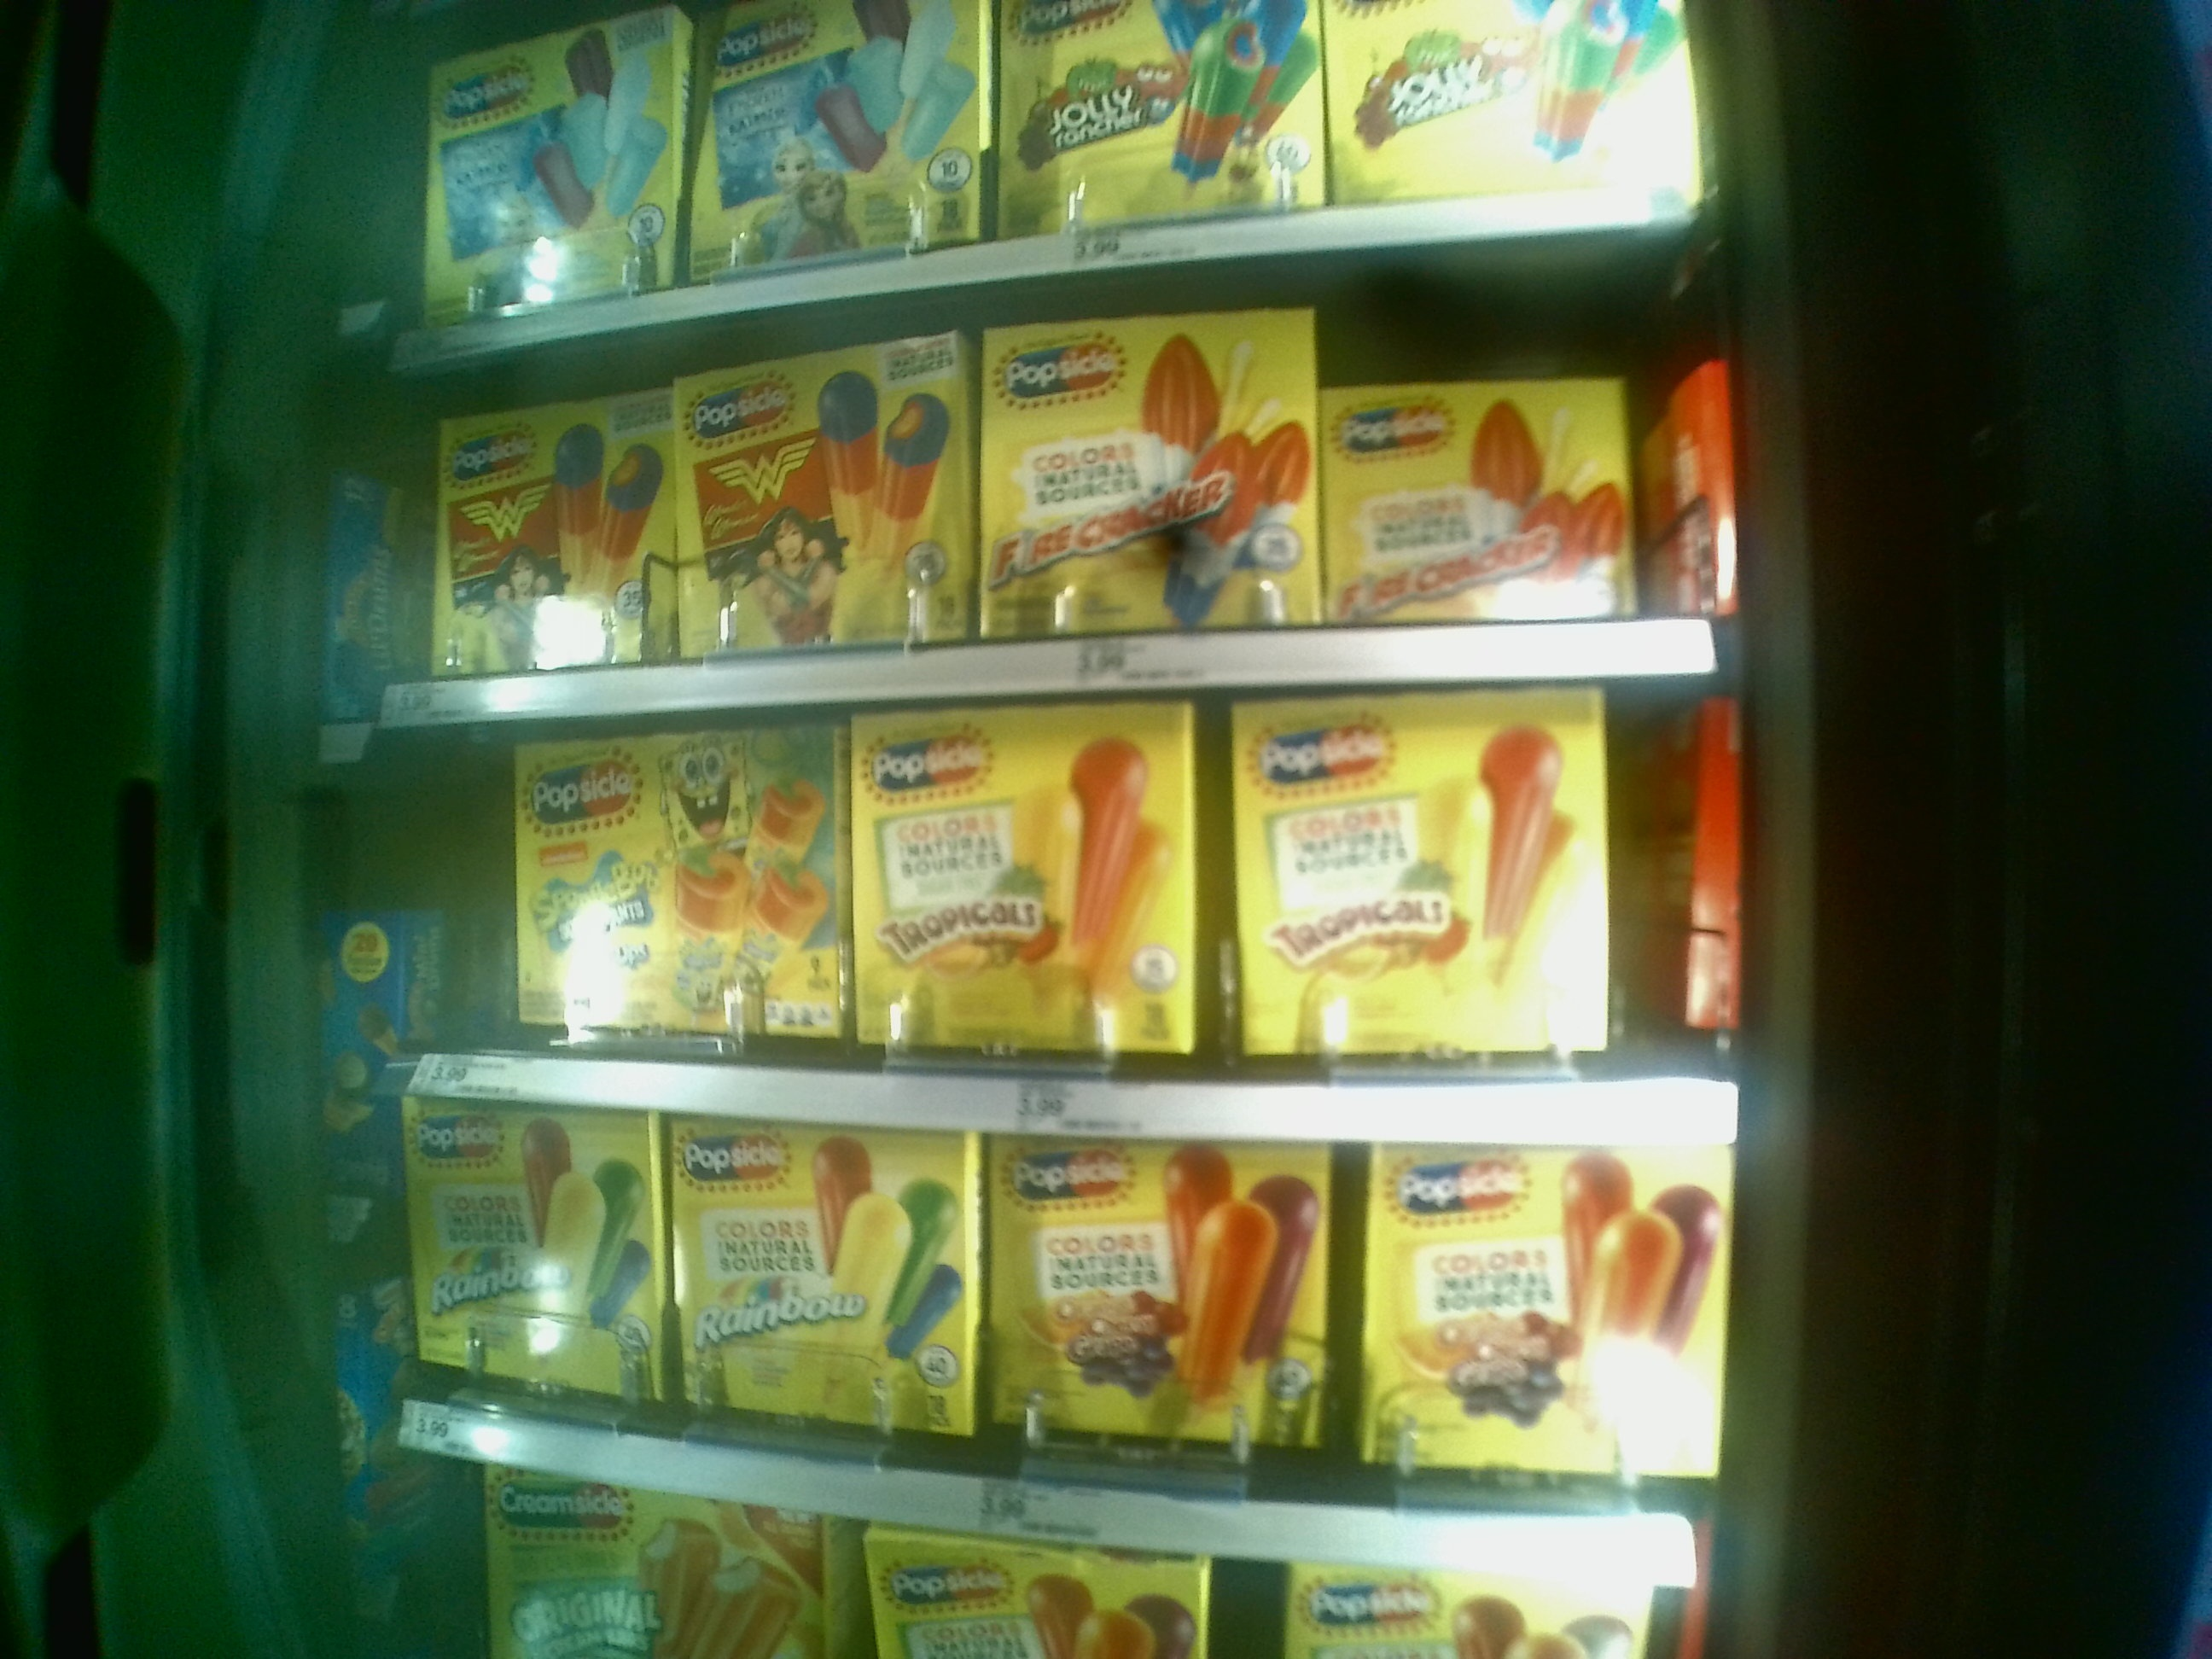shelf: (378, 237, 1724, 728), (404, 1080, 1780, 1520)
